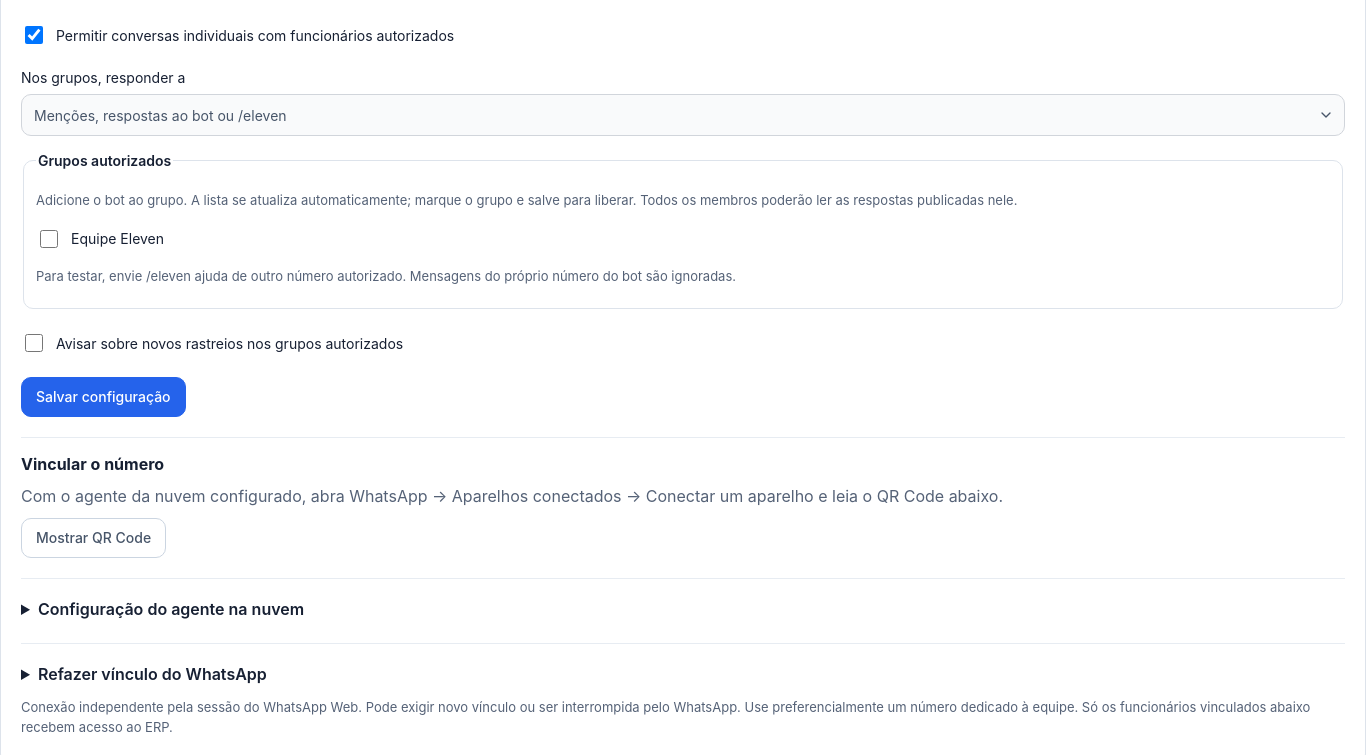
WhatsApp team connection › does not show a late QR after the user closes it or unmounts
This screenshot has width=1366, height=755.
(page scrolled)
Step 1. Click the button "Mostrar QR Code" → [94, 538], box x1=21 y1=518 x2=166 y2=558
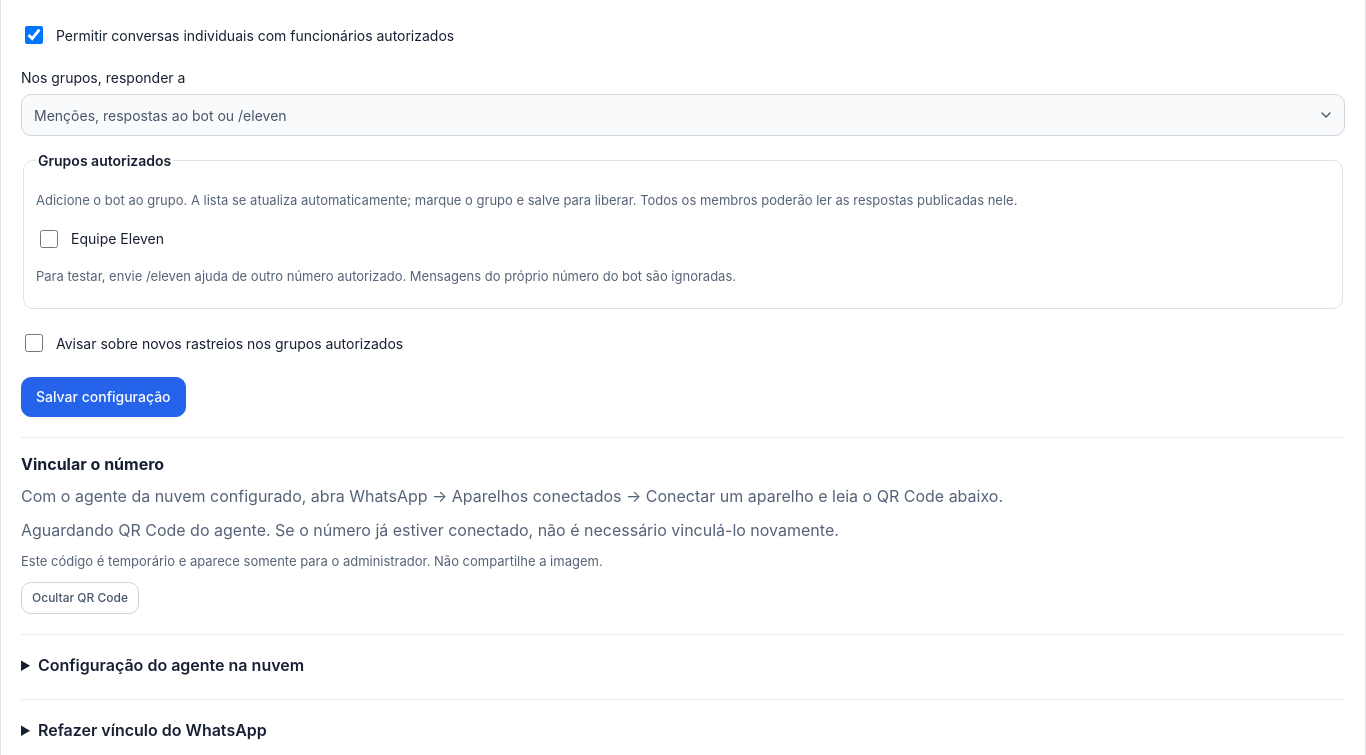
Step 2. Click the button "Ocultar QR Code" → [80, 598], box x1=21 y1=582 x2=139 y2=614
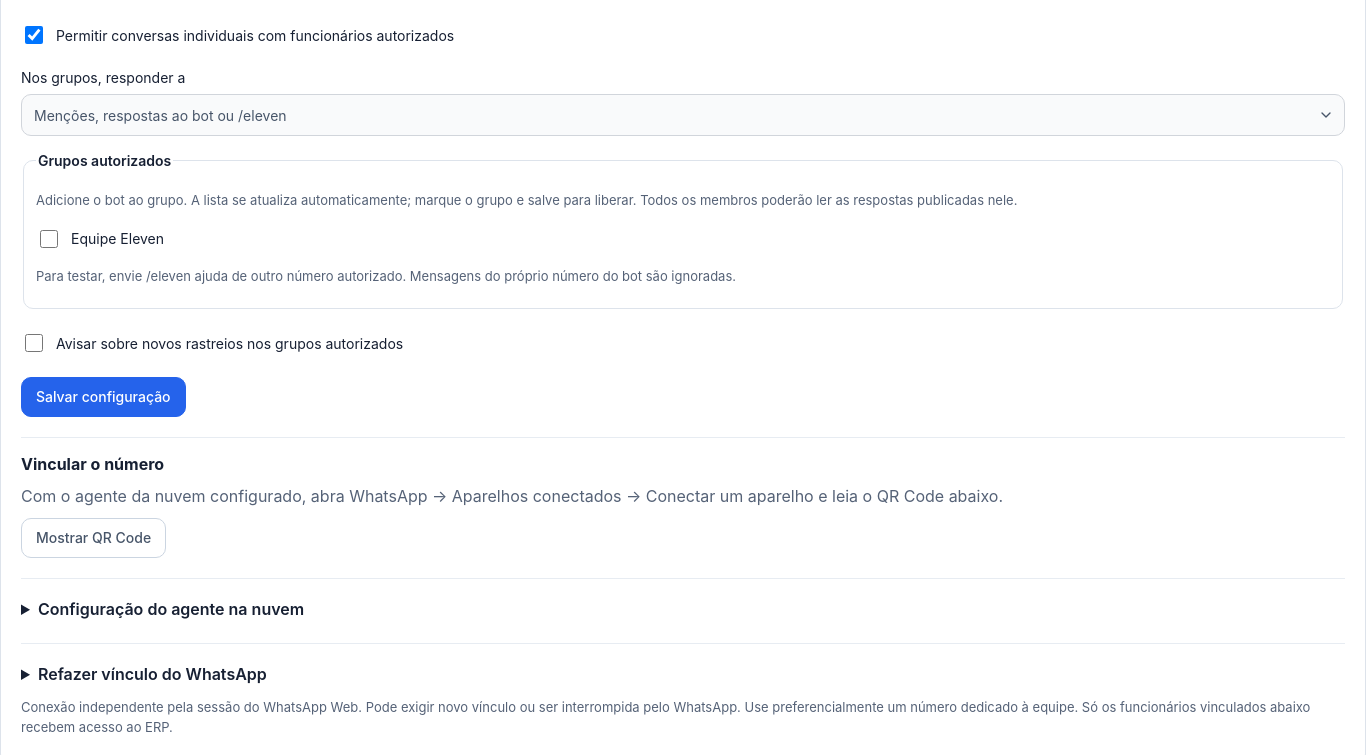
Result: the text "Mostrar QR Code" is shown at x1=21 y1=518 x2=166 y2=558
